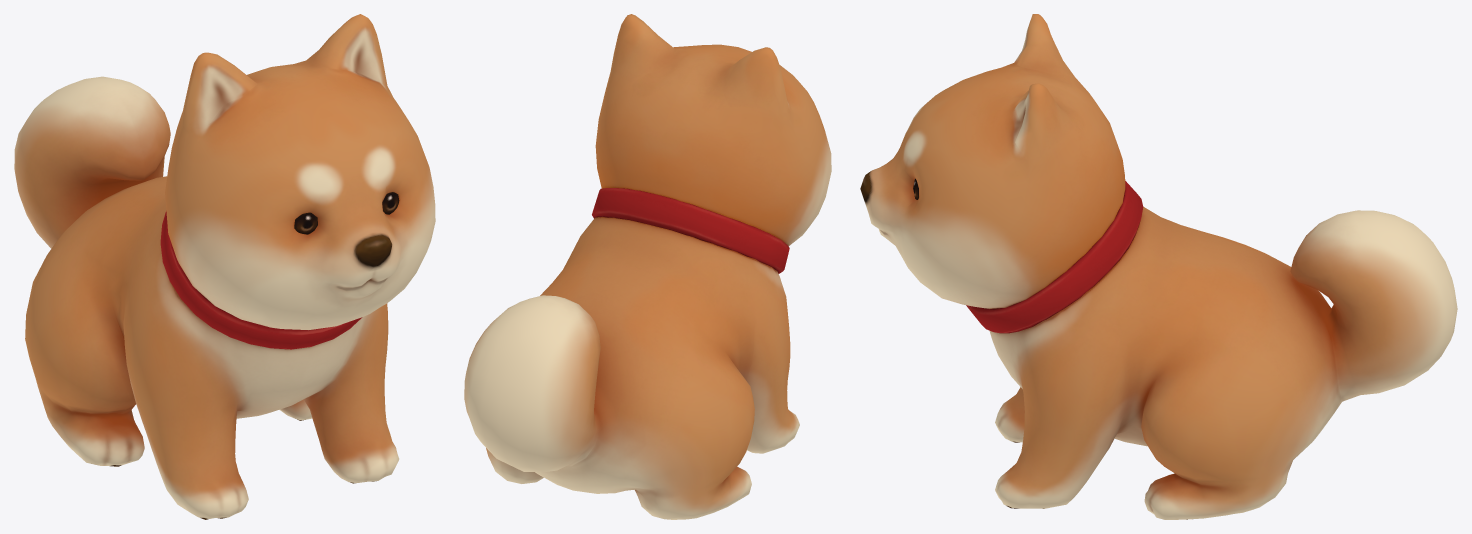
Rendered from shiba.glb.
The picture shows the model from 3 angles, left to right: view 1: azimuth 30°, elevation 25°; view 2: azimuth 150°, elevation 25°; view 3: azimuth 270°, elevation 25°; orthographic projection. The views are drawn at different scales.
Parts seen in each view (by area): view 1: Box002, Group18985, Object001_default_0; view 2: Box002, Group18985; view 3: Box002, Group18985.
Boxes of the visible parts, <box> form: Box002: <box>14,14,435,519</box>; Group18985: <box>160,211,362,349</box>; Object001_default_0: <box>294,192,399,234</box>; Box002: <box>464,14,831,519</box>; Group18985: <box>592,188,789,273</box>; Box002: <box>860,14,1457,519</box>; Group18985: <box>966,181,1143,333</box>.
Size of the model in its own units: 0.9209 by 1.38 by 1.77.
Materials: 1 (1 with a texture image).
